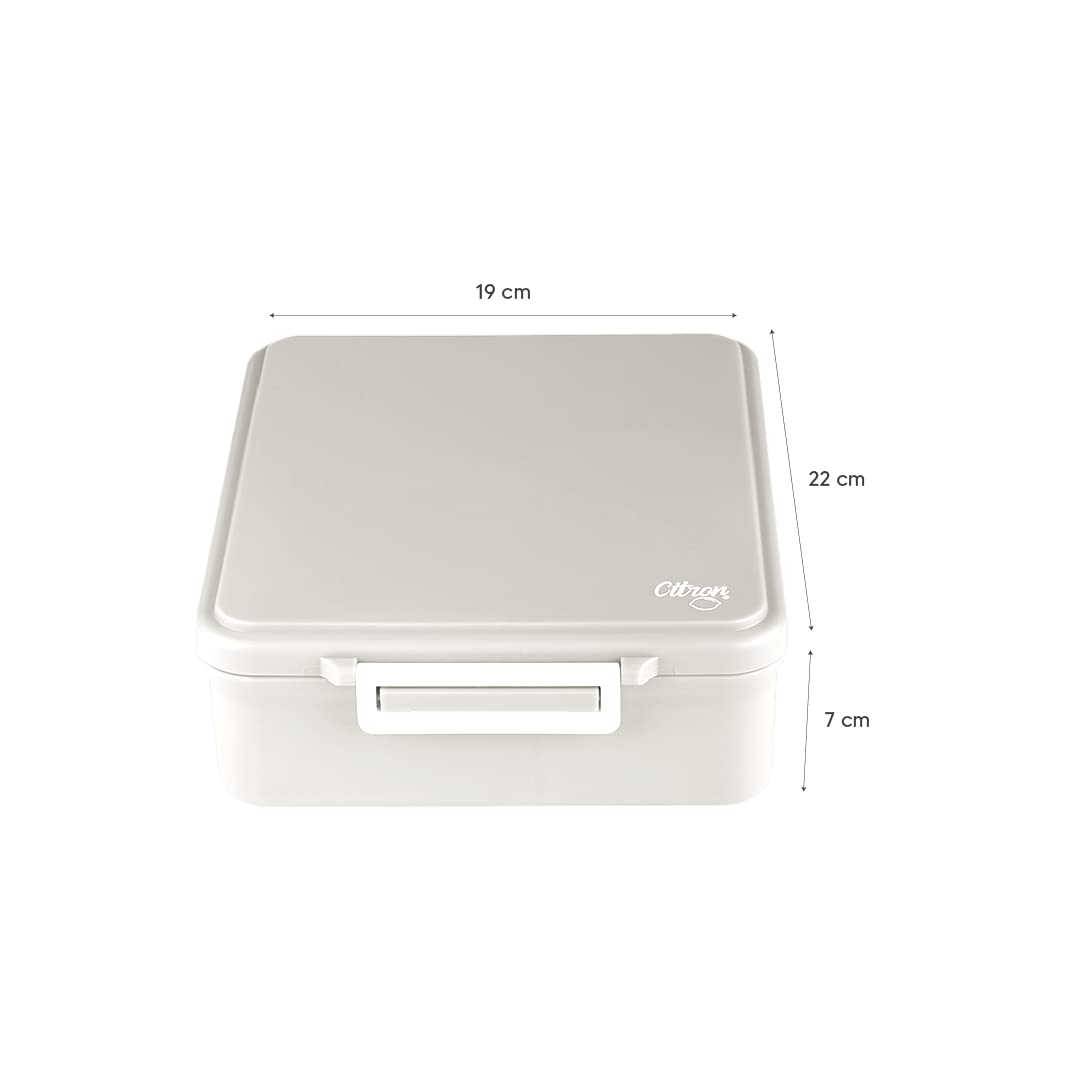22cm: (809, 471, 865, 486)
